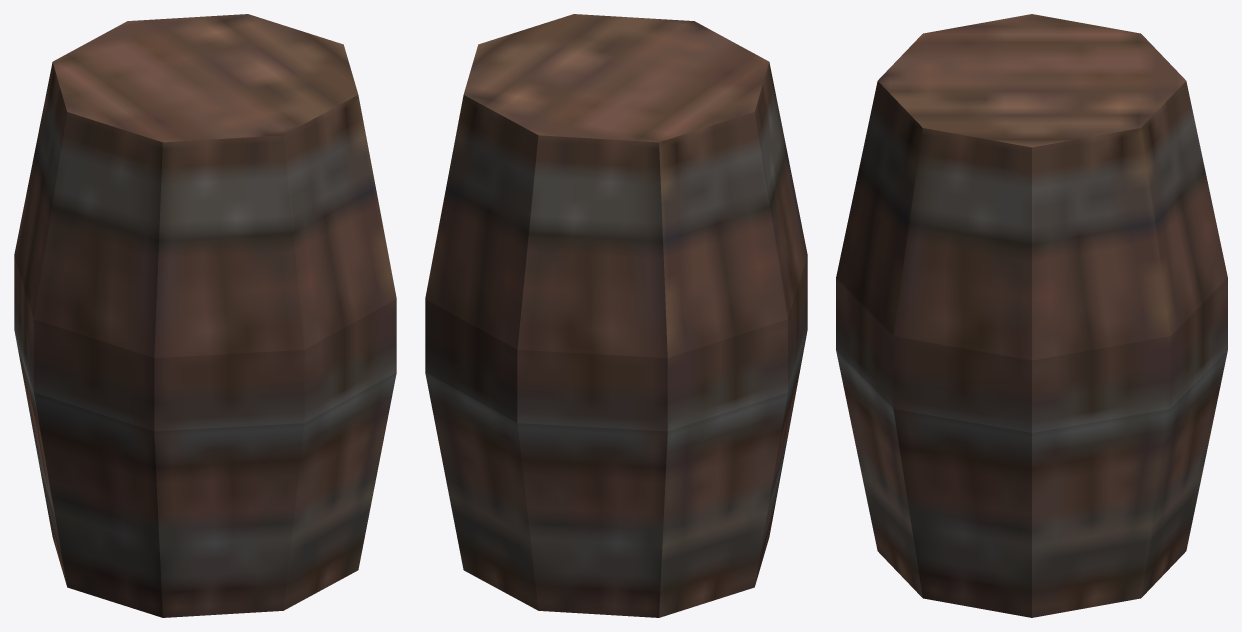
Rendered from ob-b1-005-woodbarrel.fbx.
The picture shows the model from 3 angles, left to right: view 1: azimuth 30°, elevation 25°; view 2: azimuth 150°, elevation 25°; view 3: azimuth 270°, elevation 25°; orthographic projection.
Parts seen in each view (by area): view 1: woodbarrel; view 2: woodbarrel; view 3: woodbarrel.
Part boxes in pixels (left/top/right/bottom): woodbarrel: left=14, top=14, right=396, bottom=617; woodbarrel: left=425, top=14, right=807, bottom=617; woodbarrel: left=836, top=14, right=1227, bottom=617.
Bounding box in the file's own units: 0.7553 × 1 × 0.7553.
